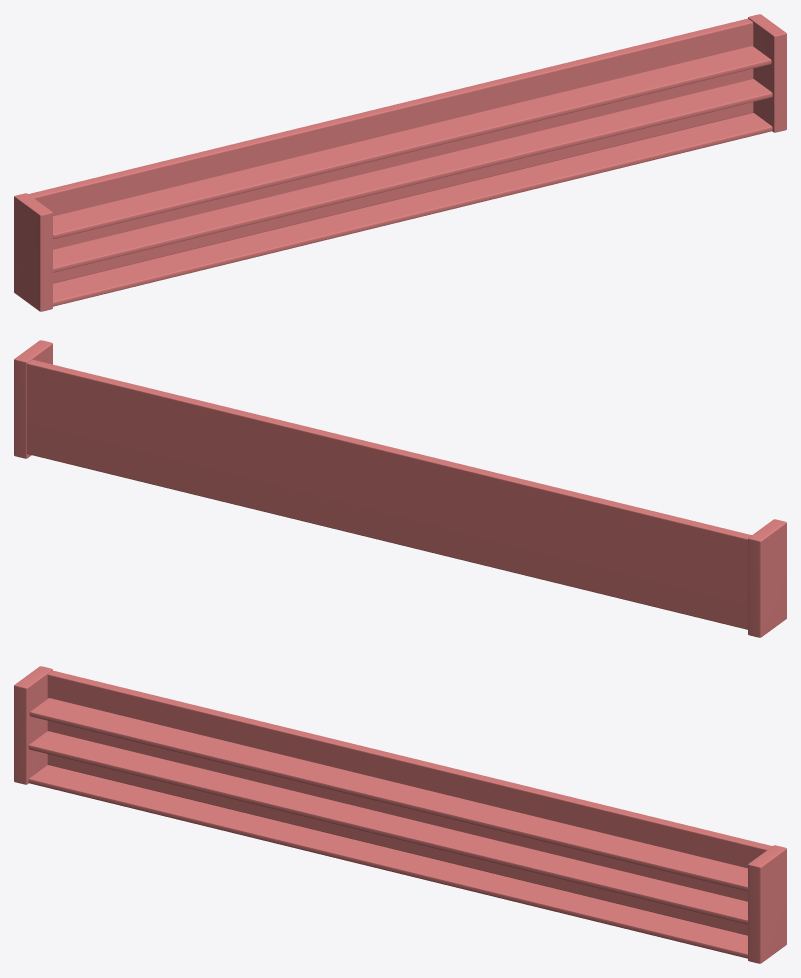
File: aislev_01.fbx
The picture shows the model from 3 angles, top to bottom: view 1: azimuth 30°, elevation 25°; view 2: azimuth 150°, elevation 25°; view 3: azimuth 330°, elevation 25°; orthographic projection.
Visible parts, largest first — view 1: pCube32; view 2: pCube32; view 3: pCube32.
Part boxes in pixels (bbox=[...]): pCube32: bbox=[14, 14, 786, 311]; pCube32: bbox=[14, 340, 786, 637]; pCube32: bbox=[14, 666, 786, 963].
Bounding box in the file's own units: 2319 × 289 × 144.
